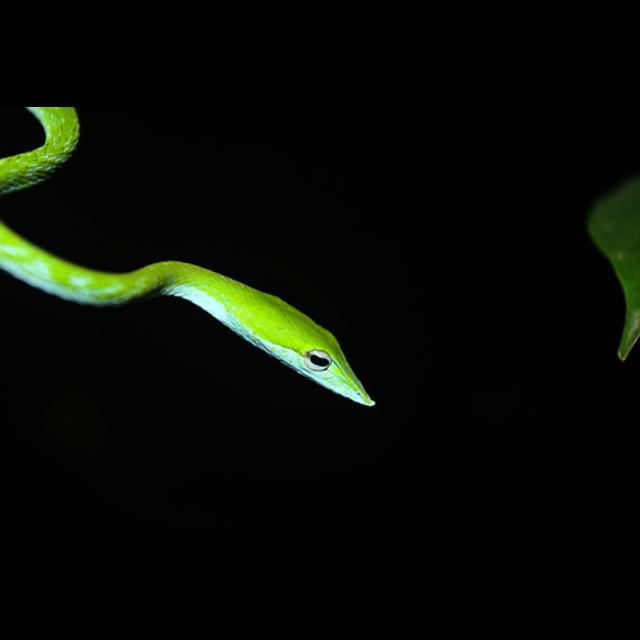snake: (0, 107, 380, 420)
